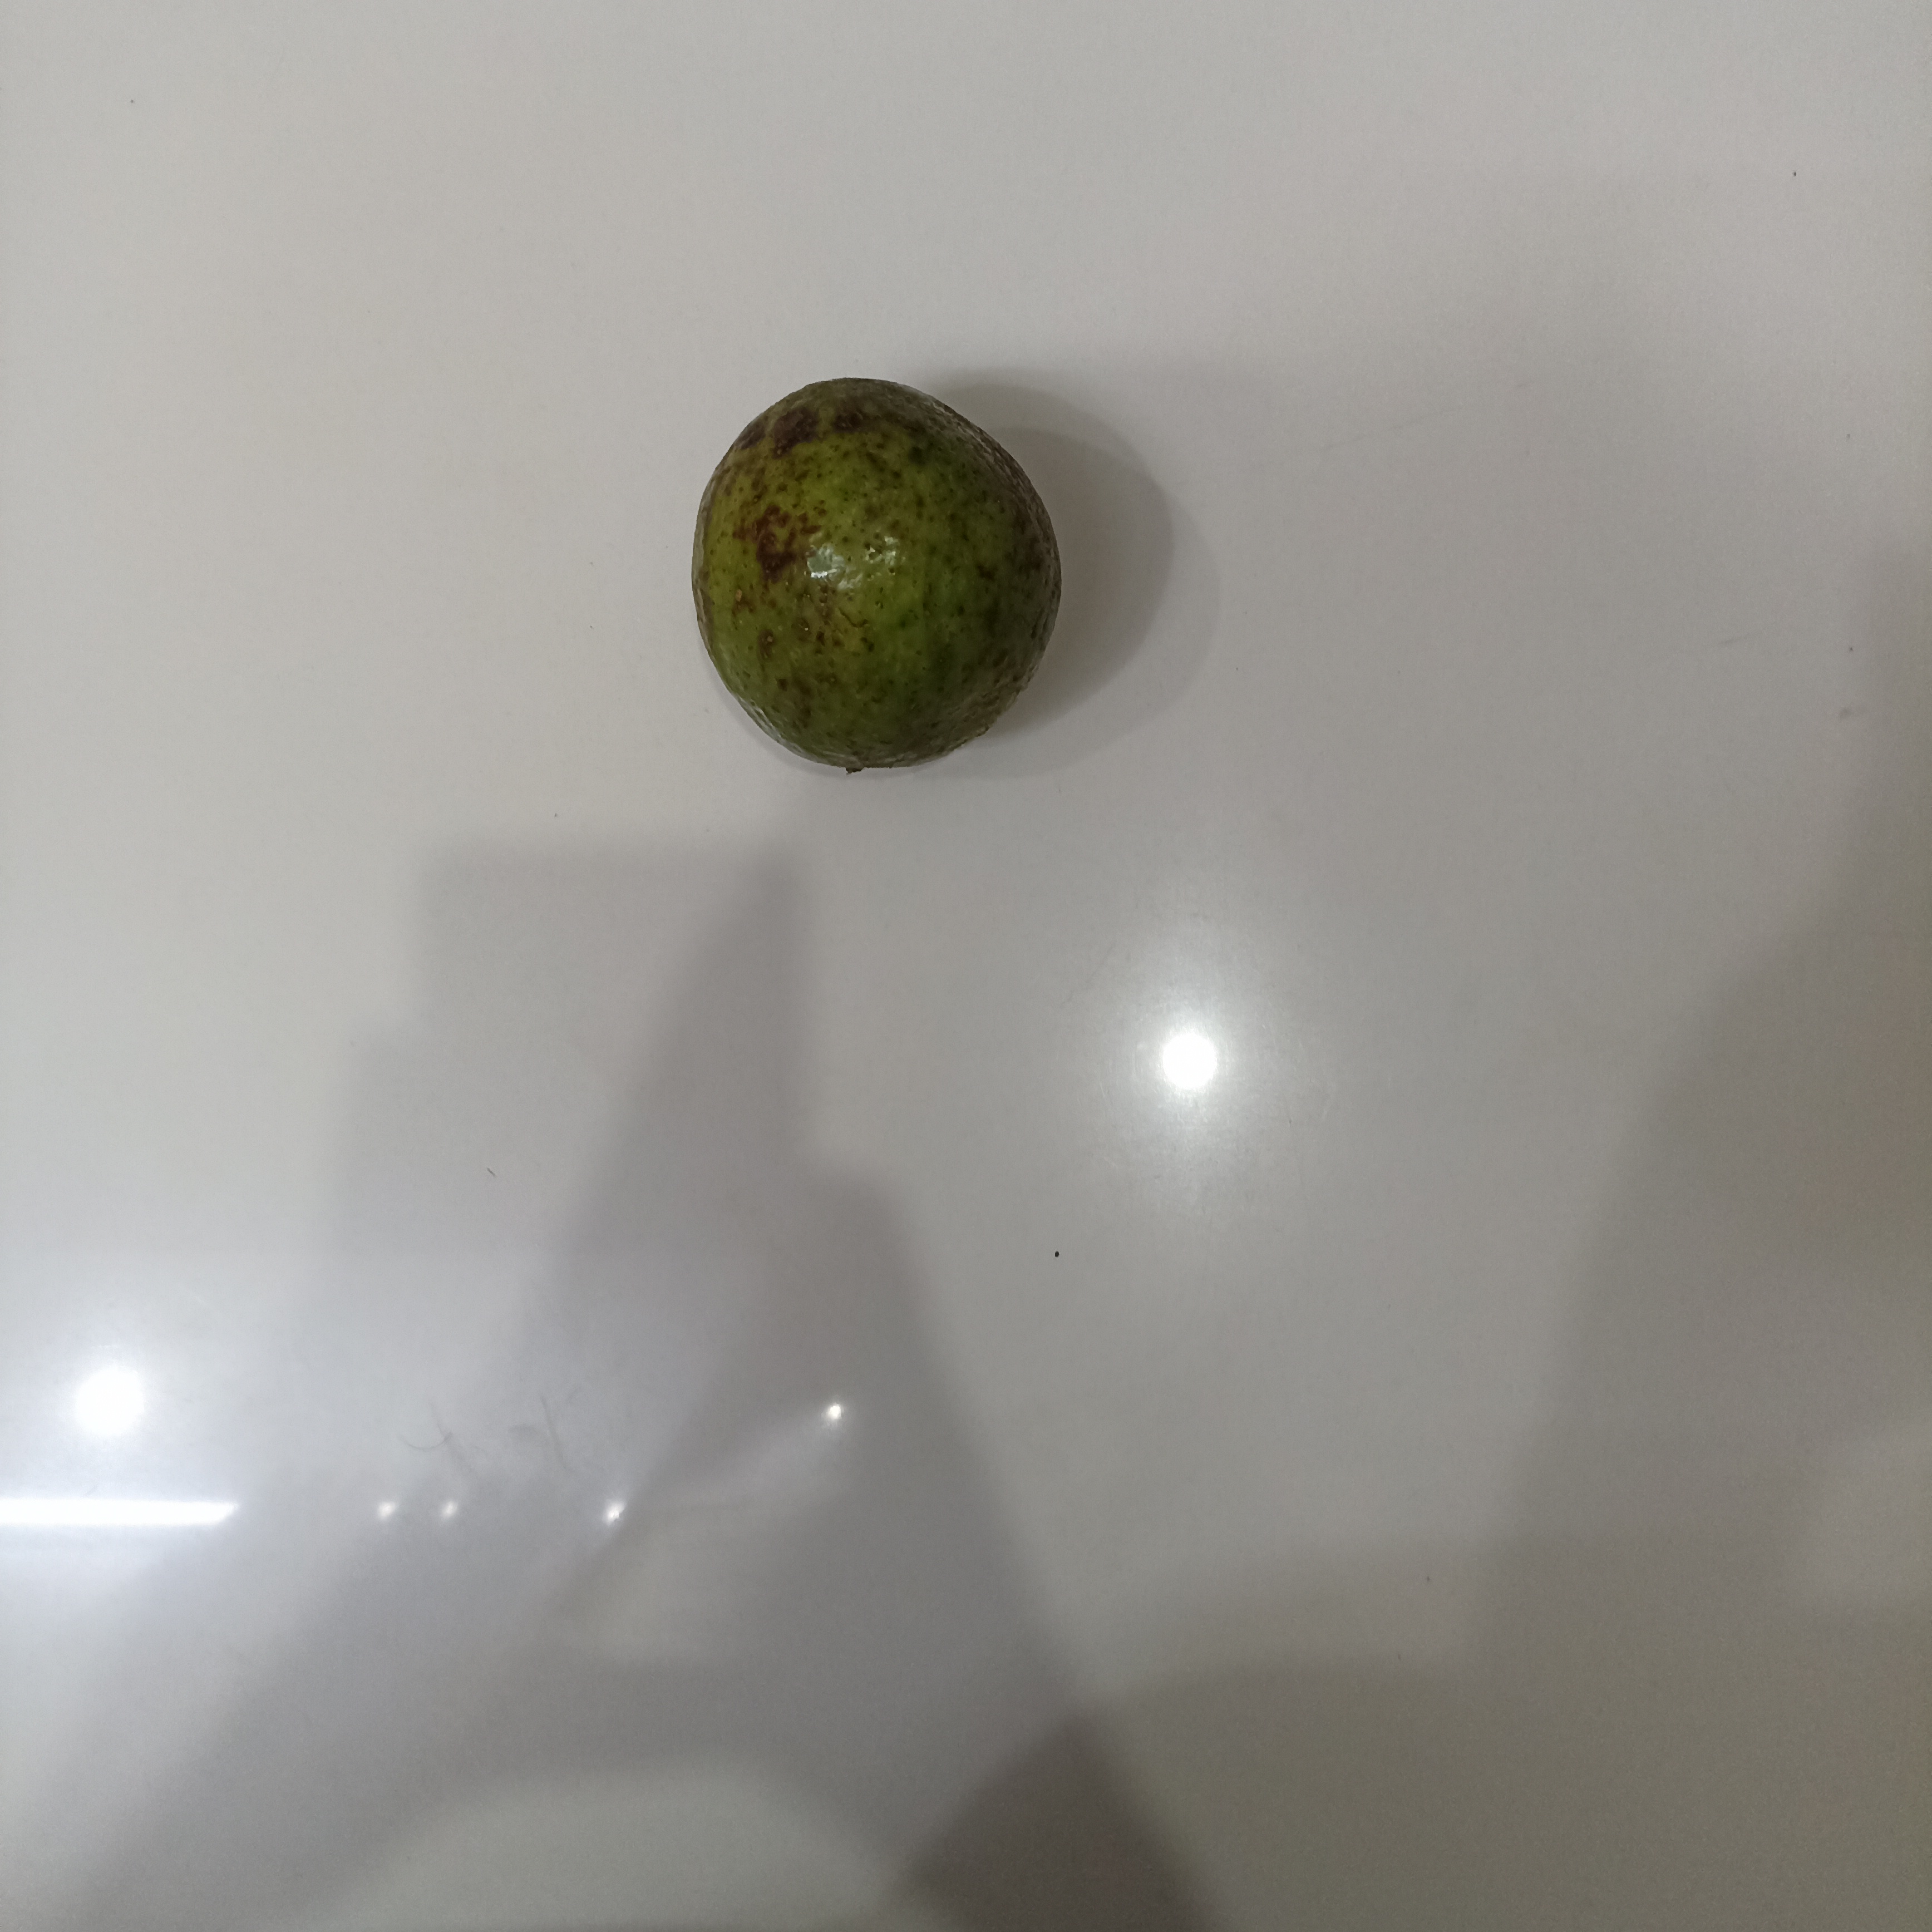Bo: (685, 379, 1065, 771)
